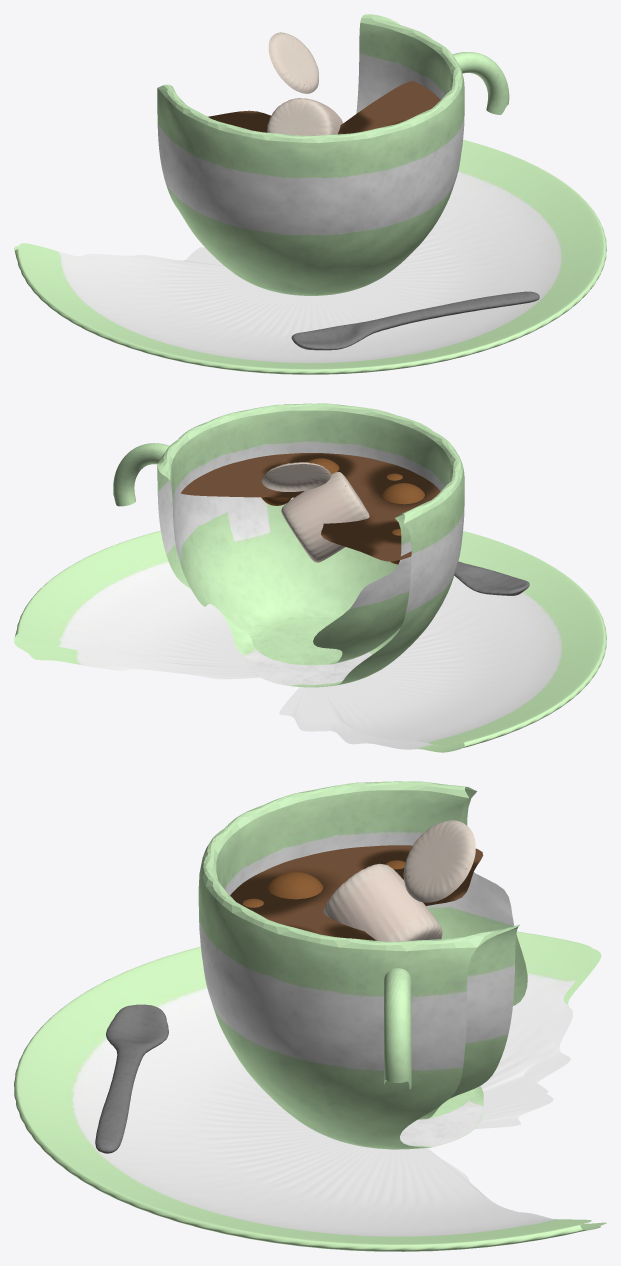
The model's file is hot_chocolate.glb.
3 views of the same model, one above another, from view 1: azimuth 30°, elevation 25°; view 2: azimuth 150°, elevation 25°; view 3: azimuth 270°, elevation 25° (orthographic). The views are drawn at different scales.
Parts seen in each view (by area): view 1: Object_8; view 2: Object_8; view 3: Object_8.
Boxes of the visible parts, <box> form: Object_8: <box>14,14,606,374</box>; Object_8: <box>14,403,606,752</box>; Object_8: <box>14,781,606,1251</box>.
Bounding box in the file's own units: 26.48 × 11.53 × 20.45.
Materials: 6 (6 with a texture image).
